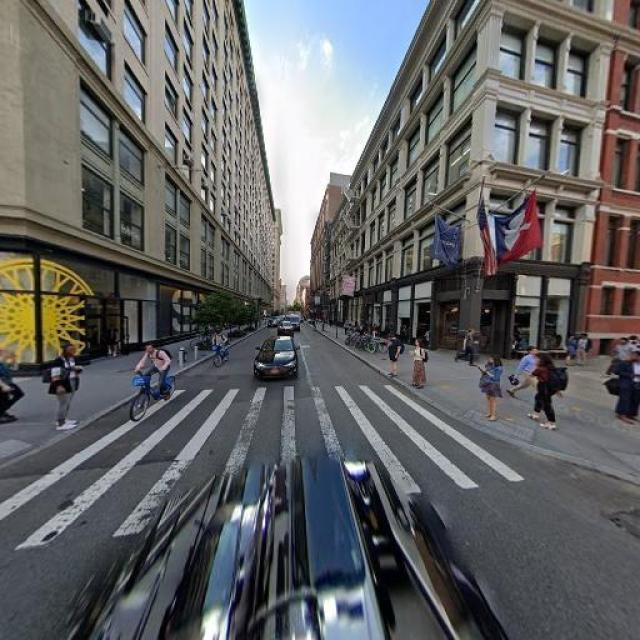Building: (1, 1, 275, 385), (339, 1, 612, 352)
